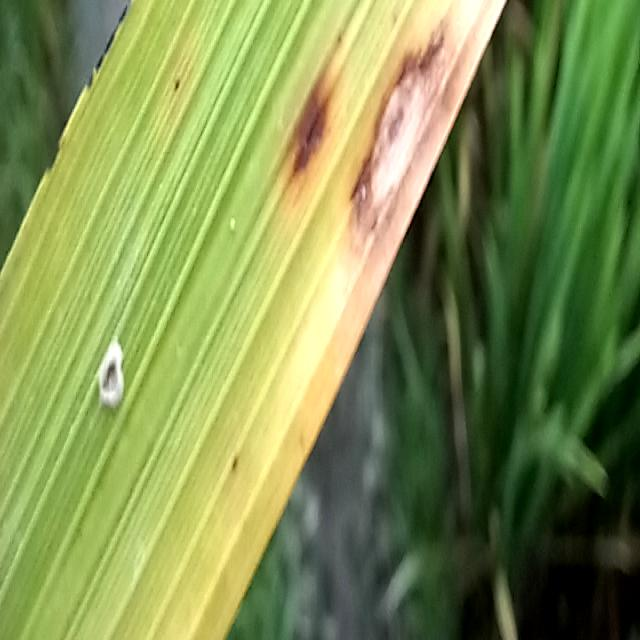LEAF BLAST: (349, 26, 458, 251)
